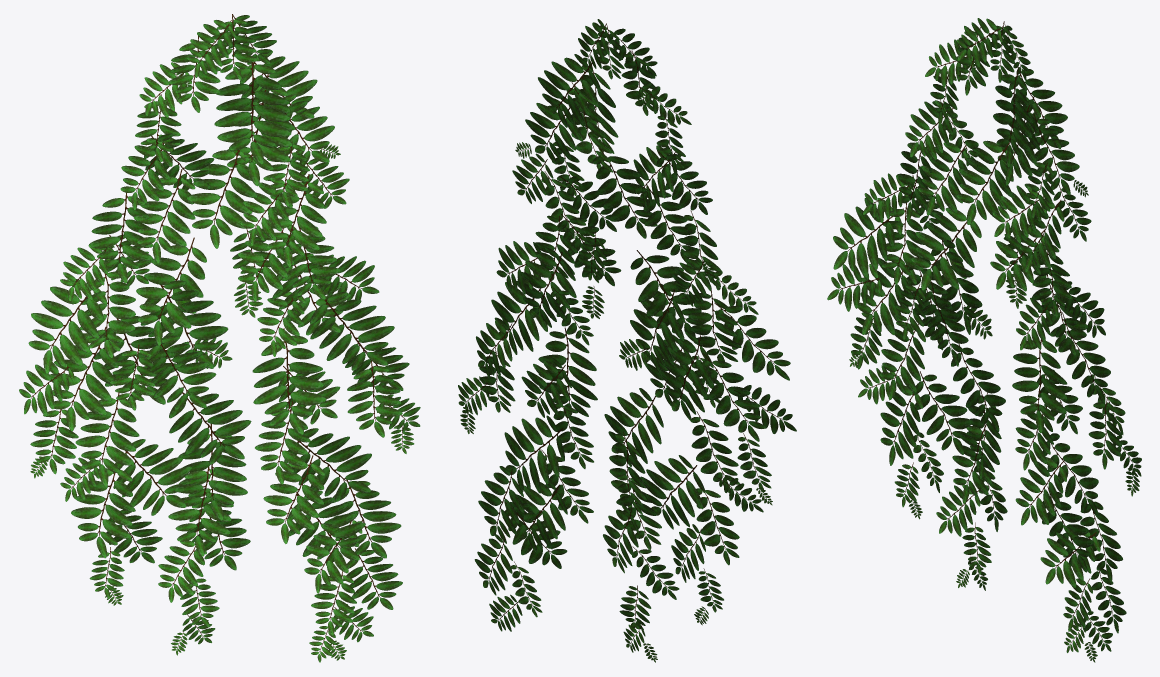
File: sm_vines_general.fbx
The picture shows the model from 3 angles, left to right: view 1: azimuth 30°, elevation 25°; view 2: azimuth 150°, elevation 25°; view 3: azimuth 330°, elevation 25°; orthographic projection. The views are drawn at different scales.
Parts seen in each view (by area): view 1: sm_vines_general; view 2: sm_vines_general; view 3: sm_vines_general.
Part boxes in pixels (bbox=[...]): sm_vines_general: bbox=[19, 14, 420, 662]; sm_vines_general: bbox=[458, 19, 796, 662]; sm_vines_general: bbox=[827, 18, 1141, 662].
Bounding box in the file's own units: 529 × 897 × 104.
